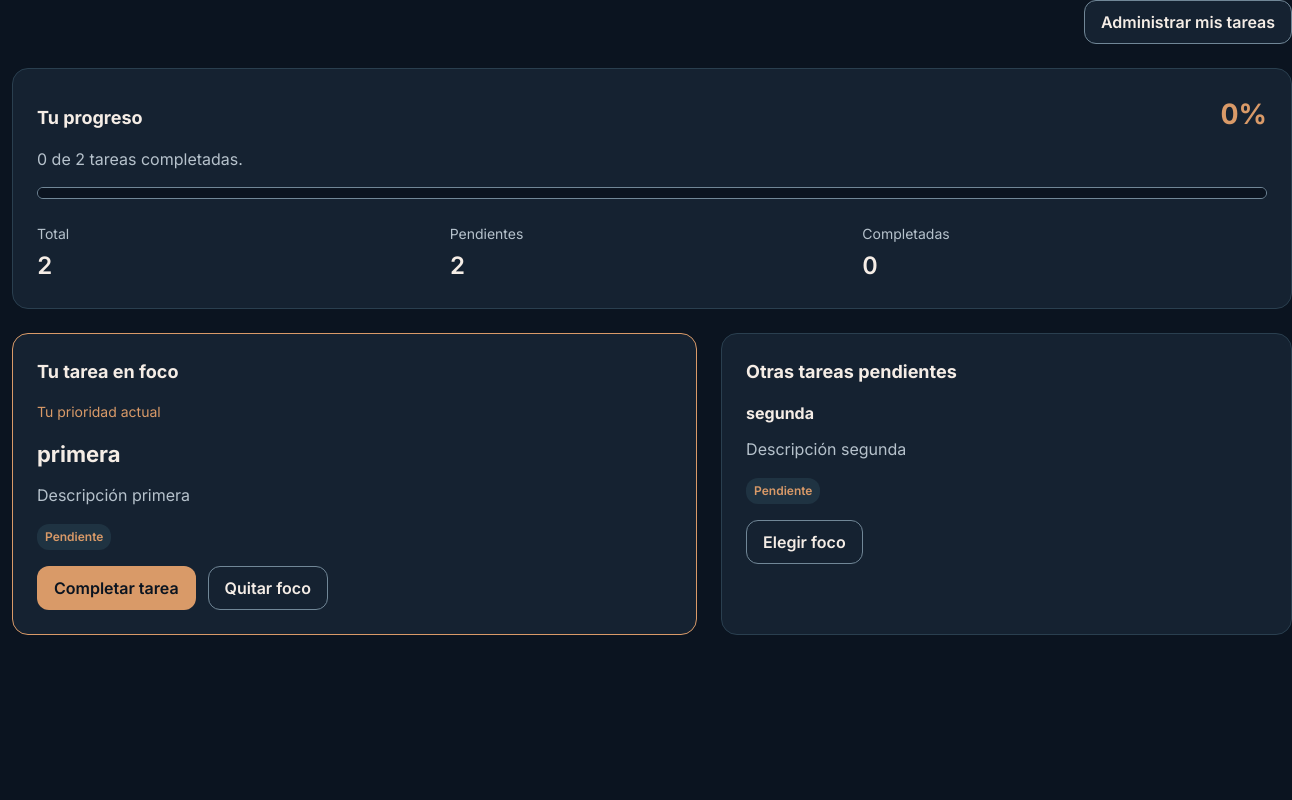
Test case: muestra errores de selección permission-denied y permite reintentar
What coordinates should you click on to do the following:
click the button with aria-label "Elegir foco: segunda"
I would click on:
 (804, 542)
Its box is top-left (746, 520), bottom-right (863, 564).
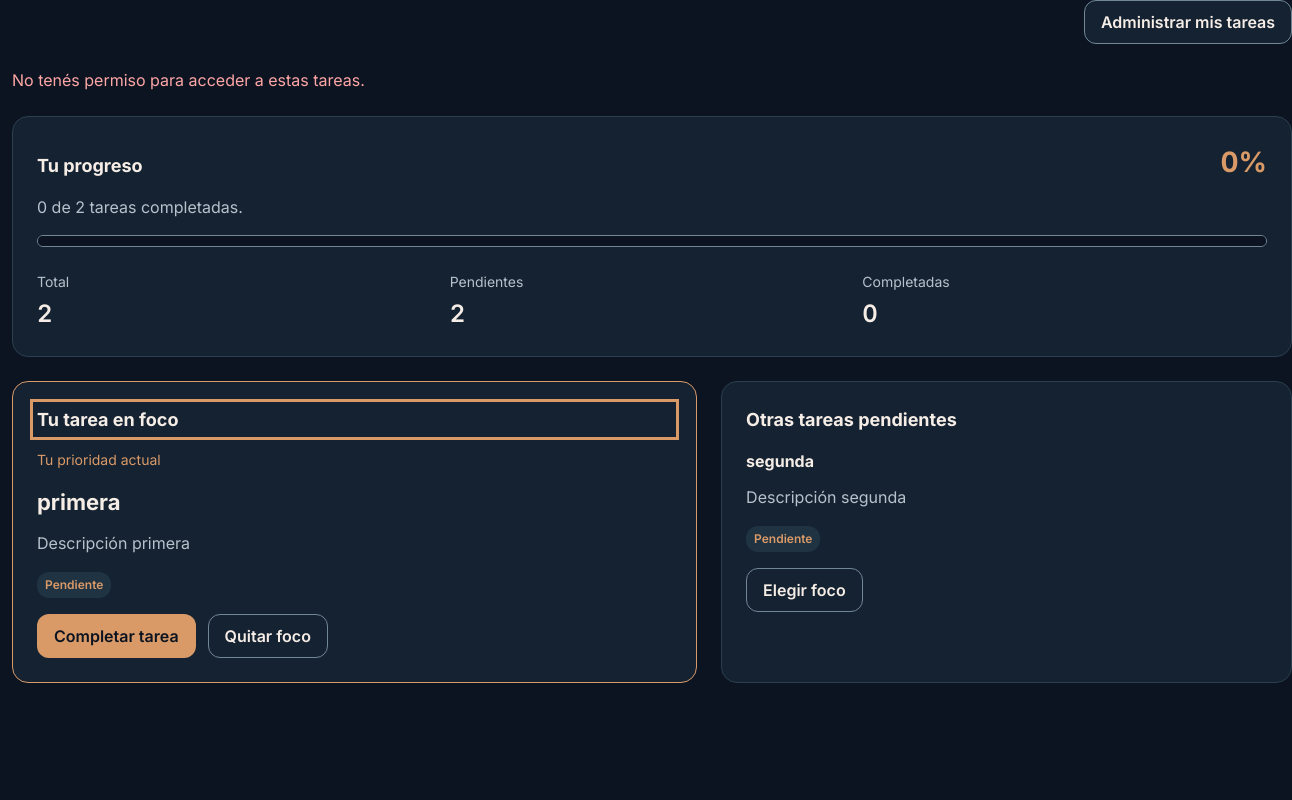
Expected: the heading "primera" is shown, top-left (37, 489), bottom-right (120, 515)
Now the message shows "permiso", box top-left (12, 70), bottom-right (365, 90)
What coordinates should you click on to do the following:
click the button with aria-label "Elegir foco: segunda"
I would click on:
 (804, 590)
Its box is top-left (746, 568), bottom-right (863, 612).
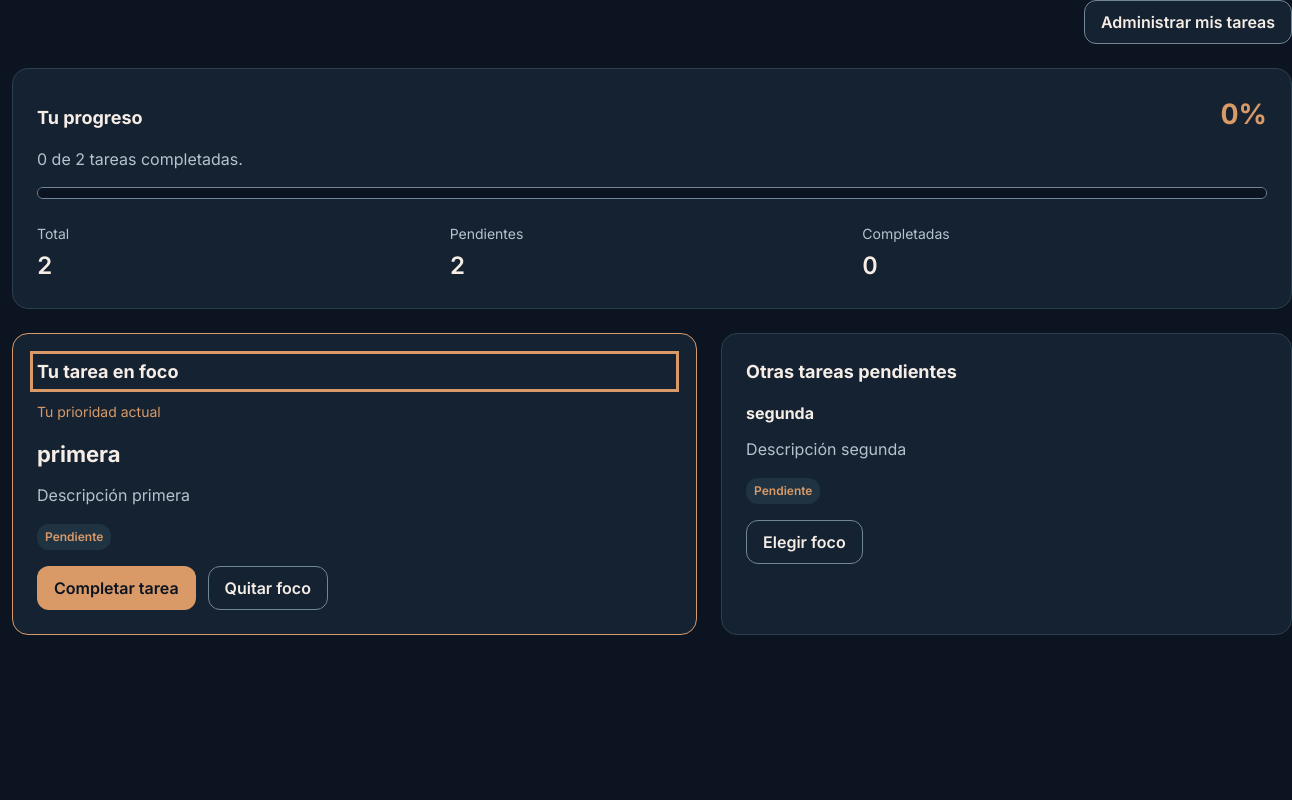
Now the message "No tenés permiso para acceder a estas tareas." is gone
